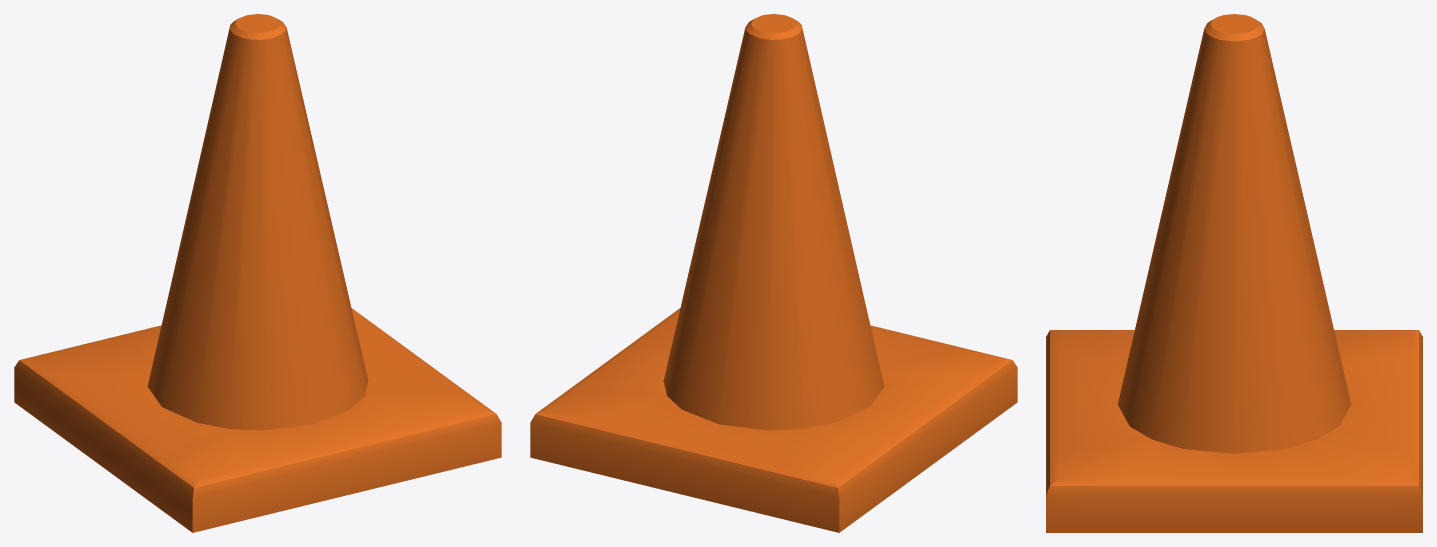
File: trafficcone.fbx
The picture shows the model from 3 angles, left to right: view 1: azimuth 30°, elevation 25°; view 2: azimuth 150°, elevation 25°; view 3: azimuth 270°, elevation 25°; orthographic projection. The views are drawn at different scales.
Visible parts, largest first — view 1: Cube.001; view 2: Cube.001; view 3: Cube.001.
Boxes of the visible parts, <box> form: Cube.001: <box>14,14,501,532</box>; Cube.001: <box>530,14,1017,532</box>; Cube.001: <box>1046,14,1422,532</box>.
Size of the model in its own units: 0.35 by 0.44 by 0.35.
